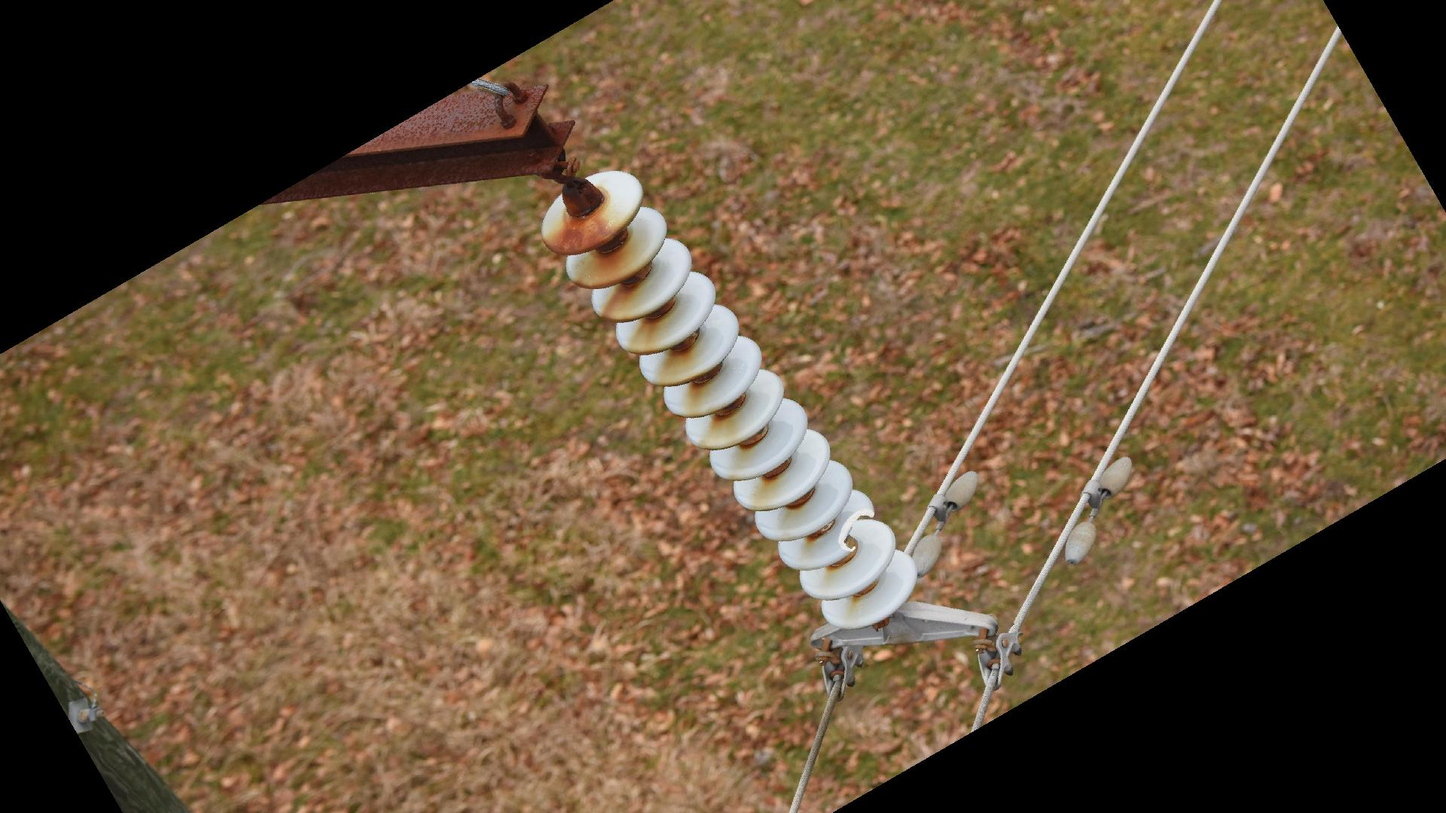insulator: (536, 168, 923, 635)
insulator_breakage: (834, 503, 880, 558)
